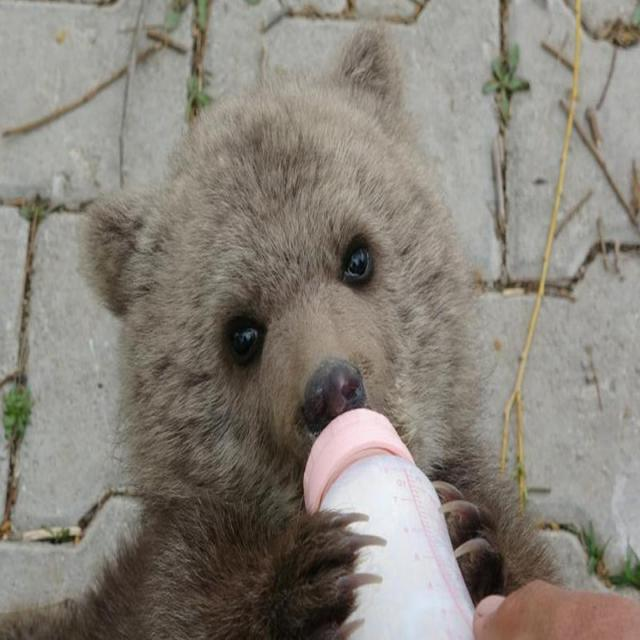Bear: (78, 77, 570, 640)
